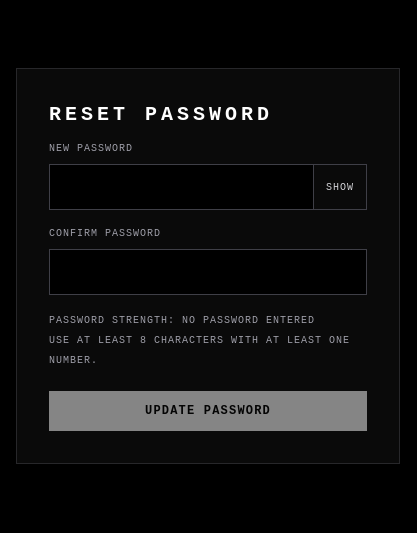
Test: PasswordRecoveryPage › updates the password after a valid recovery session is restored
Type "new-password-42" into the password field labelled "New Password Show" at (182,187), box [49, 164, 314, 210]
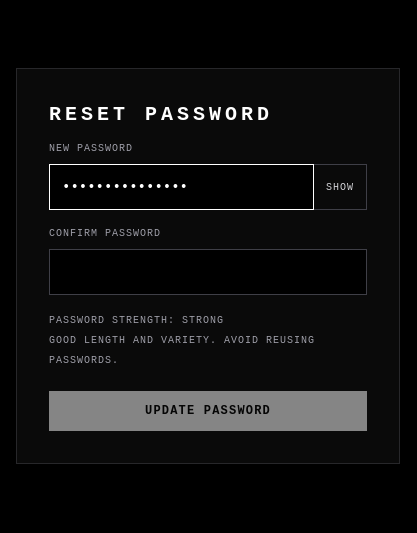
Type "new-password-42" into the password field labelled "Confirm Password" at (208,272), box [49, 249, 367, 295]
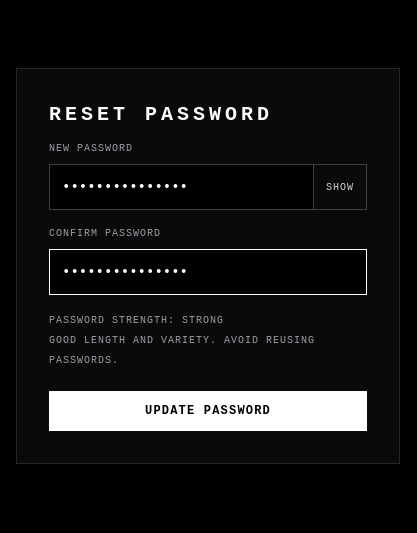
Click the button "Update Password" at (208,411), box [49, 391, 367, 431]
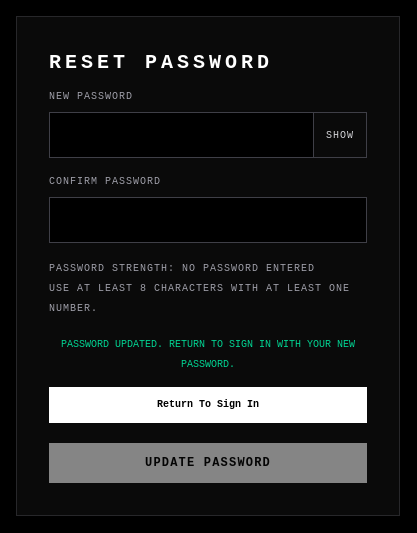
Check: the message shows "Password updated", box [61, 339, 355, 370]
Check: the button "Return To Sign In" is shown, box [49, 387, 367, 423]
